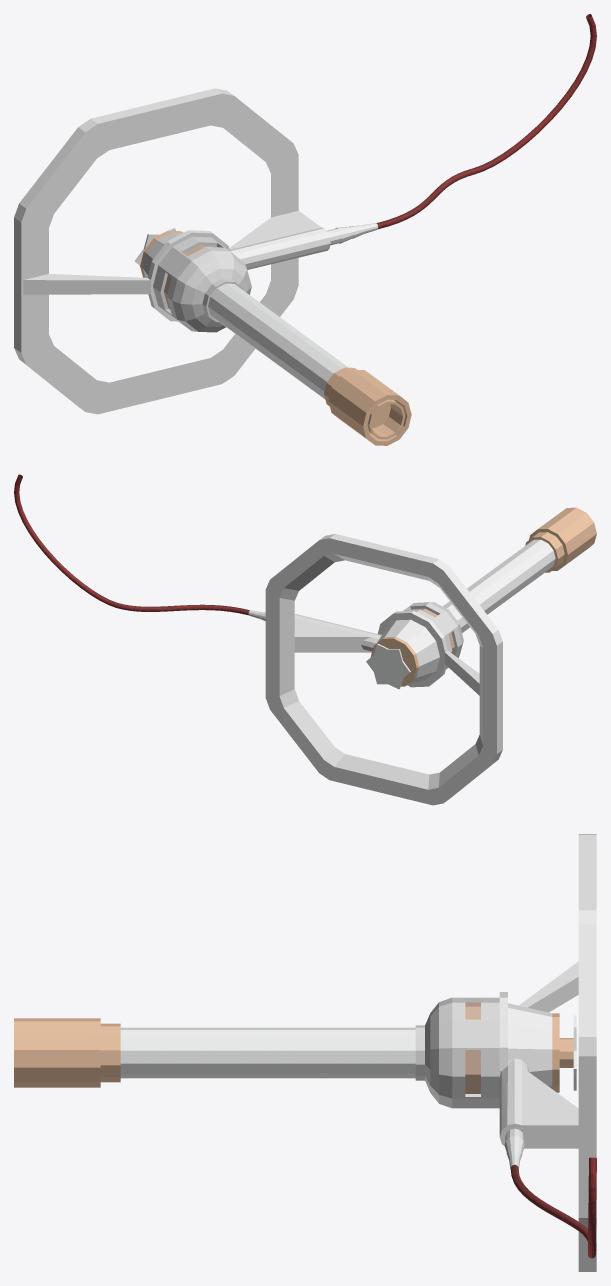
3 views of the same model, one above another, from view 1: azimuth 30°, elevation 25°; view 2: azimuth 150°, elevation 25°; view 3: azimuth 270°, elevation 25° (orthographic). The views are drawn at different scales.
Bounding box in the file's own units: 0.2093 × 0.1 × 0.1465.
